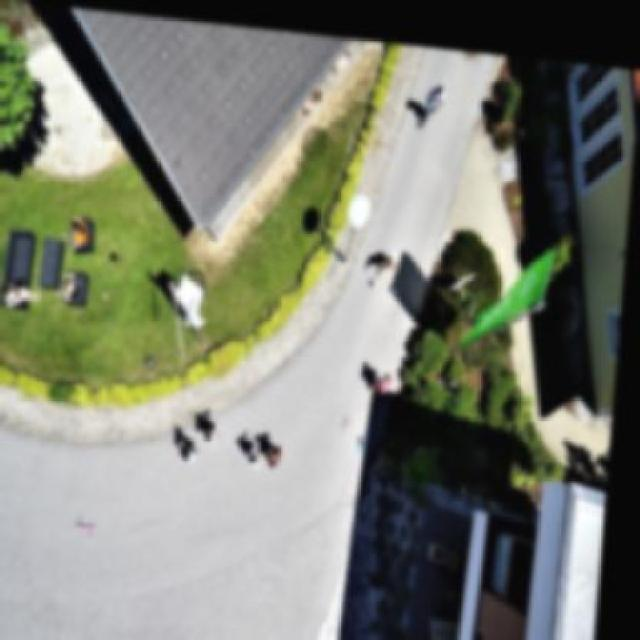Person: (413, 65, 447, 120), (8, 273, 46, 312), (66, 209, 94, 253), (177, 428, 206, 464), (371, 234, 400, 269), (372, 356, 399, 393), (60, 264, 86, 302), (266, 427, 292, 458), (246, 430, 269, 464), (202, 414, 228, 440)
